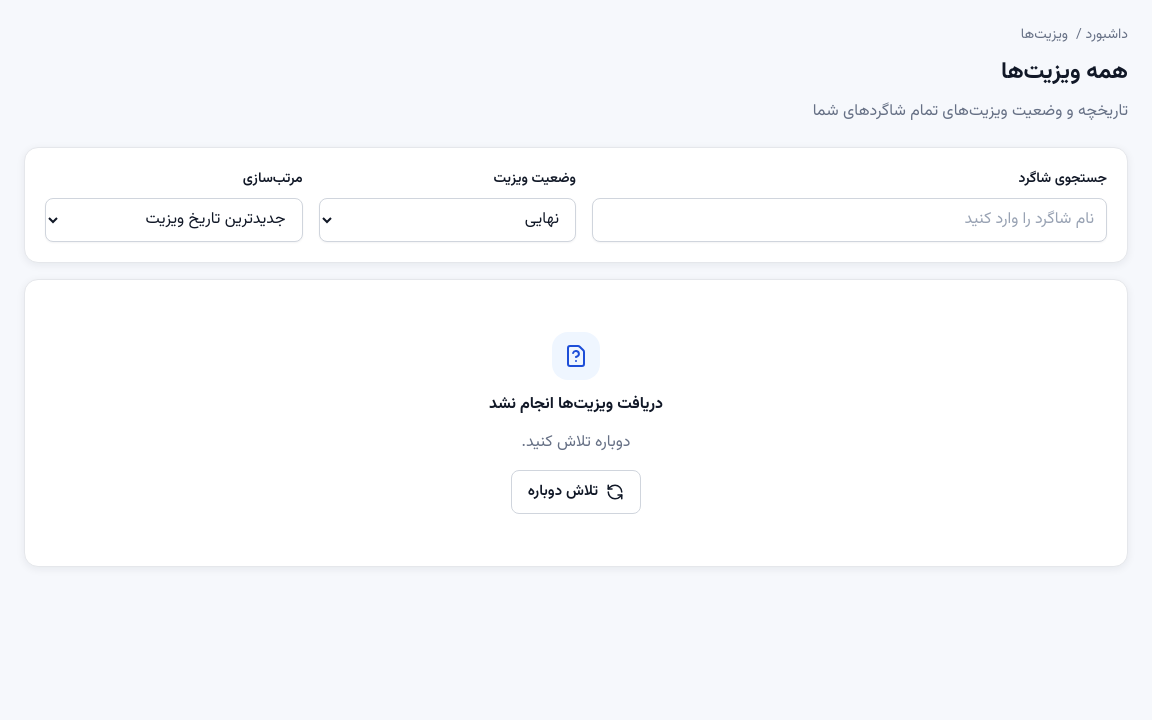
Coach visit history failures › shows list errors and loads the same filters when retried
Expected: the heading "دریافت ویزیت‌ها انجام نشد" is shown, [489,392,663,417]
Click the button "تلاش دوباره" at (576, 492), box [511,470,641,514]
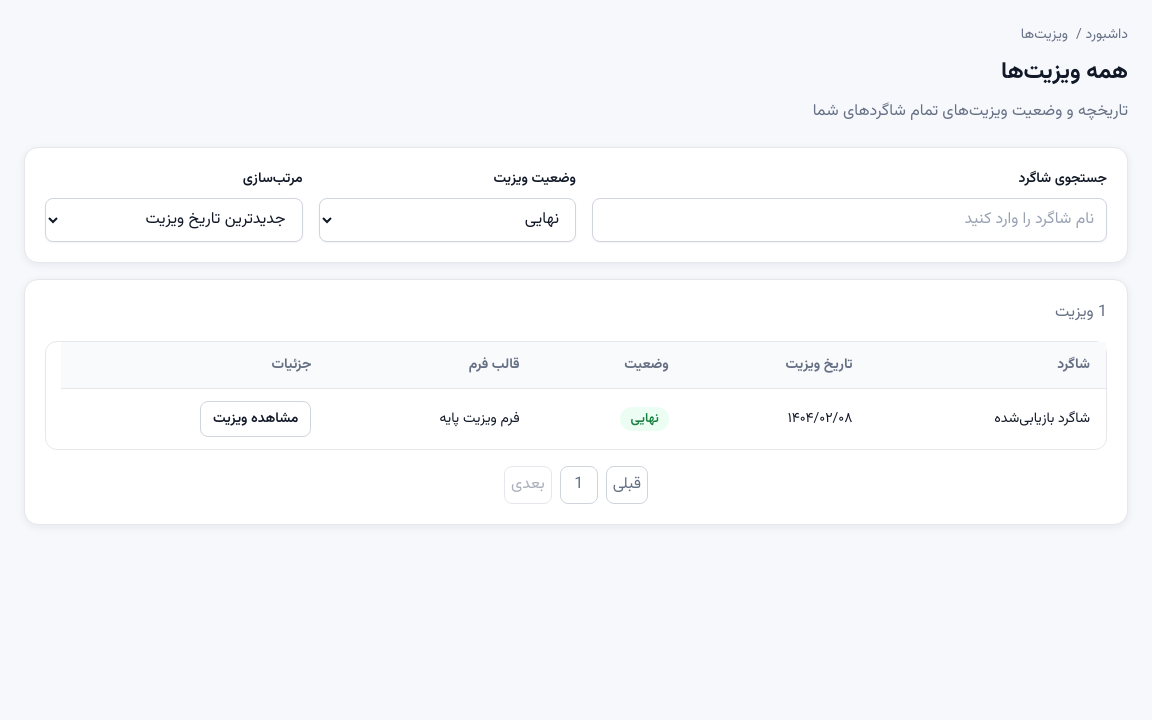
Expected: the text "شاگرد بازیابی‌شده" is shown, [868,388,1106,449]
